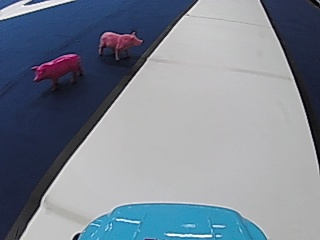pig: (30, 50, 82, 91), (95, 27, 143, 61)
